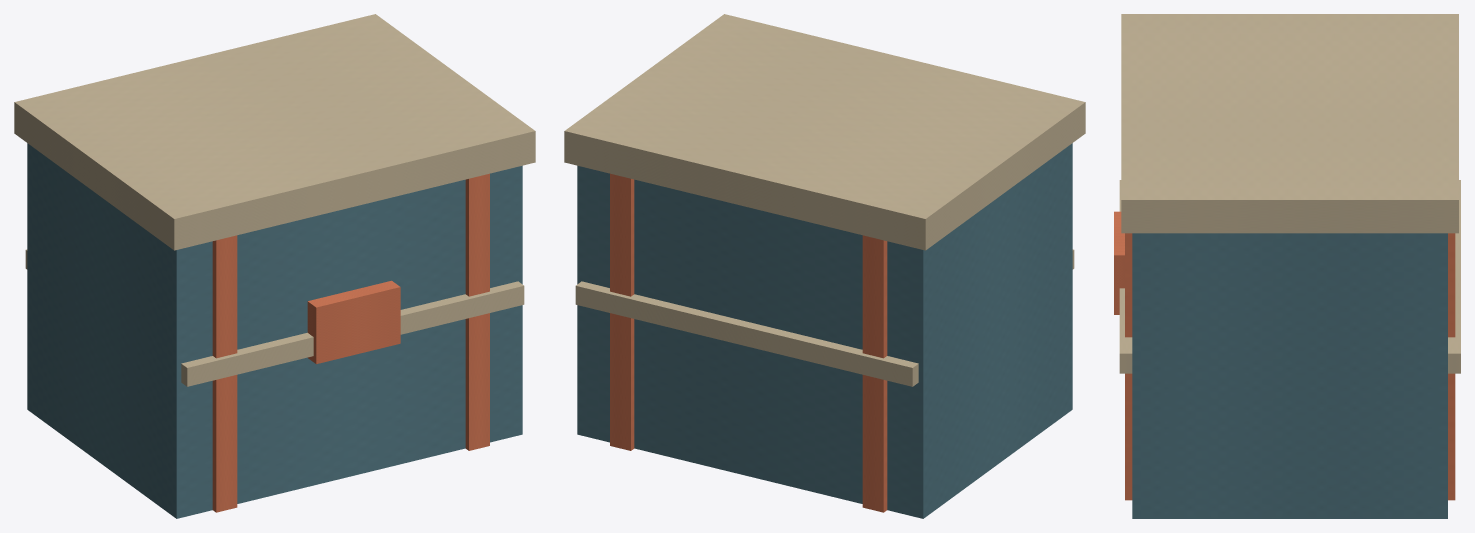
File: atlas100-sailpunk-util02.glb
The picture shows the model from 3 angles, left to right: view 1: azimuth 30°, elevation 25°; view 2: azimuth 150°, elevation 25°; view 3: azimuth 270°, elevation 25°; orthographic projection. The views are drawn at different scales.
Visible parts, largest first — view 1: atlas100-sailpunk-util02:part-000, atlas100-sailpunk-util02:part-005, atlas100-sailpunk-util02:part-001, atlas100-sailpunk-util02:part-004, atlas100-sailpunk-util02:part-002, atlas100-sailpunk-util02:part-006; view 2: atlas100-sailpunk-util02:part-000, atlas100-sailpunk-util02:part-005, atlas100-sailpunk-util02:part-003, atlas100-sailpunk-util02:part-001, atlas100-sailpunk-util02:part-002; view 3: atlas100-sailpunk-util02:part-000, atlas100-sailpunk-util02:part-005, atlas100-sailpunk-util02:part-002, atlas100-sailpunk-util02:part-003, atlas100-sailpunk-util02:part-006, atlas100-sailpunk-util02:part-004.
Boxes of the visible parts, x1,y1,x2,y2 form: atlas100-sailpunk-util02:part-000: (27, 143, 522, 518); atlas100-sailpunk-util02:part-005: (14, 14, 535, 250); atlas100-sailpunk-util02:part-001: (212, 235, 237, 512); atlas100-sailpunk-util02:part-004: (181, 281, 524, 386); atlas100-sailpunk-util02:part-002: (465, 173, 489, 450); atlas100-sailpunk-util02:part-006: (307, 280, 400, 364); atlas100-sailpunk-util02:part-000: (577, 143, 1072, 518); atlas100-sailpunk-util02:part-005: (564, 14, 1085, 250); atlas100-sailpunk-util02:part-003: (575, 281, 918, 386); atlas100-sailpunk-util02:part-001: (862, 235, 887, 512); atlas100-sailpunk-util02:part-002: (610, 173, 634, 450); atlas100-sailpunk-util02:part-000: (1132, 233, 1447, 518); atlas100-sailpunk-util02:part-005: (1121, 14, 1458, 233); atlas100-sailpunk-util02:part-002: (1125, 233, 1455, 500); atlas100-sailpunk-util02:part-003: (1448, 180, 1460, 373); atlas100-sailpunk-util02:part-006: (1114, 211, 1124, 314); atlas100-sailpunk-util02:part-004: (1119, 180, 1132, 373).
Size of the model in its own units: 1.28 by 1.04 by 1.01.
3 materials, 3 textured.
